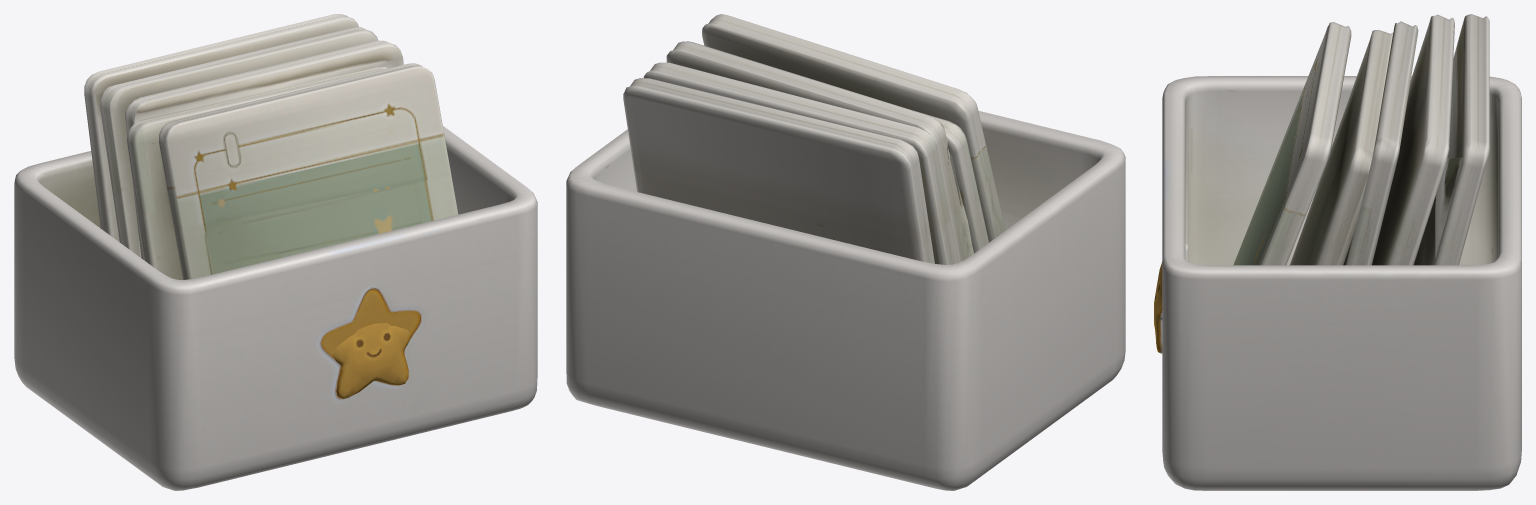
The model's file is star card holder 3d model.glb.
3 renders of one model, left to right at view 1: azimuth 30°, elevation 25°; view 2: azimuth 150°, elevation 25°; view 3: azimuth 270°, elevation 25°, orthographic. The views are drawn at different scales.
Parts seen in each view (by area): view 1: tripo_node_67486135-a908-4c04-943a-525de829d199; view 2: tripo_node_67486135-a908-4c04-943a-525de829d199; view 3: tripo_node_67486135-a908-4c04-943a-525de829d199.
Boxes of the visible parts, left/top/right/bottom form: tripo_node_67486135-a908-4c04-943a-525de829d199: left=14, top=14, right=537, bottom=490; tripo_node_67486135-a908-4c04-943a-525de829d199: left=566, top=14, right=1125, bottom=490; tripo_node_67486135-a908-4c04-943a-525de829d199: left=1154, top=14, right=1521, bottom=490.
Size of the model in its own units: 0.998 by 0.7832 by 0.7832.
1 material, 1 textured.
